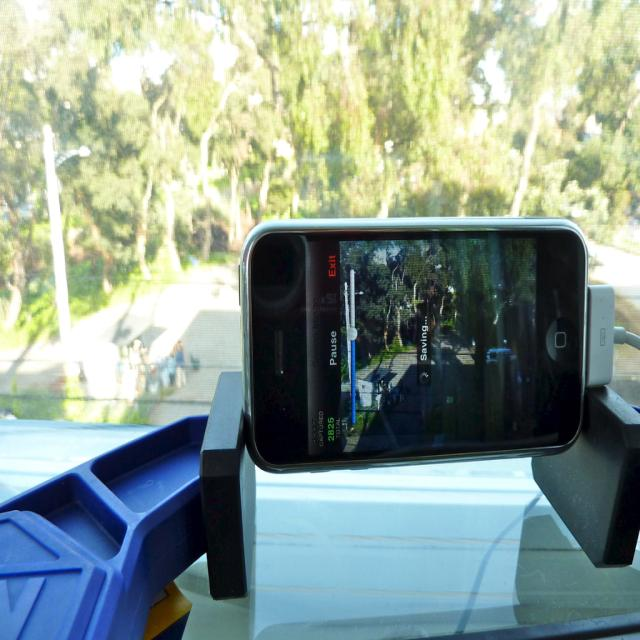Mobile-phone: (232, 225, 598, 484)
